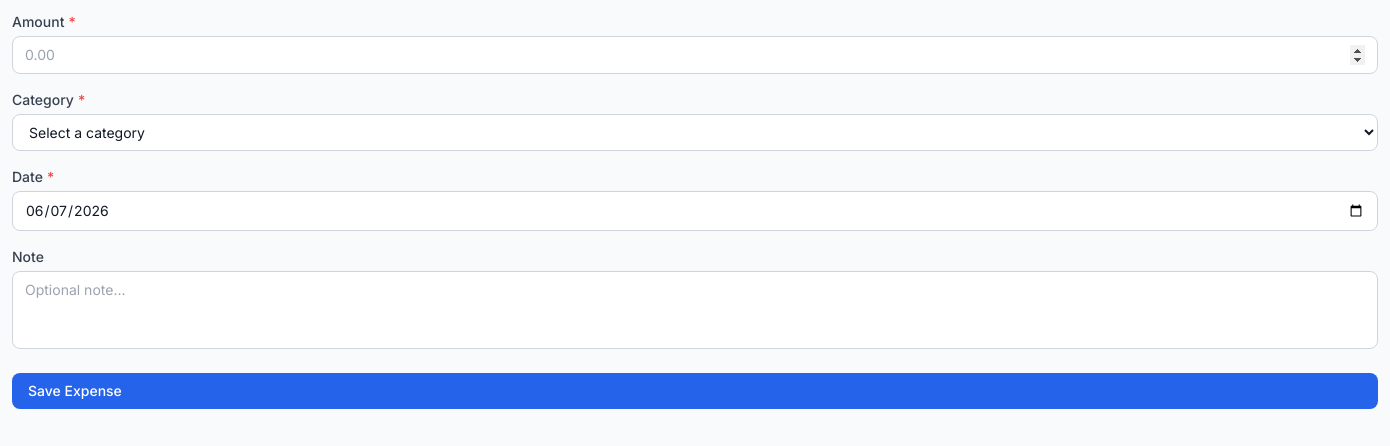
Test case: ExpenseForm › shows validation error for missing category
Type "50" into the number field labelled "Amount*" at (695, 55), box top-left (12, 36), bottom-right (1378, 74)
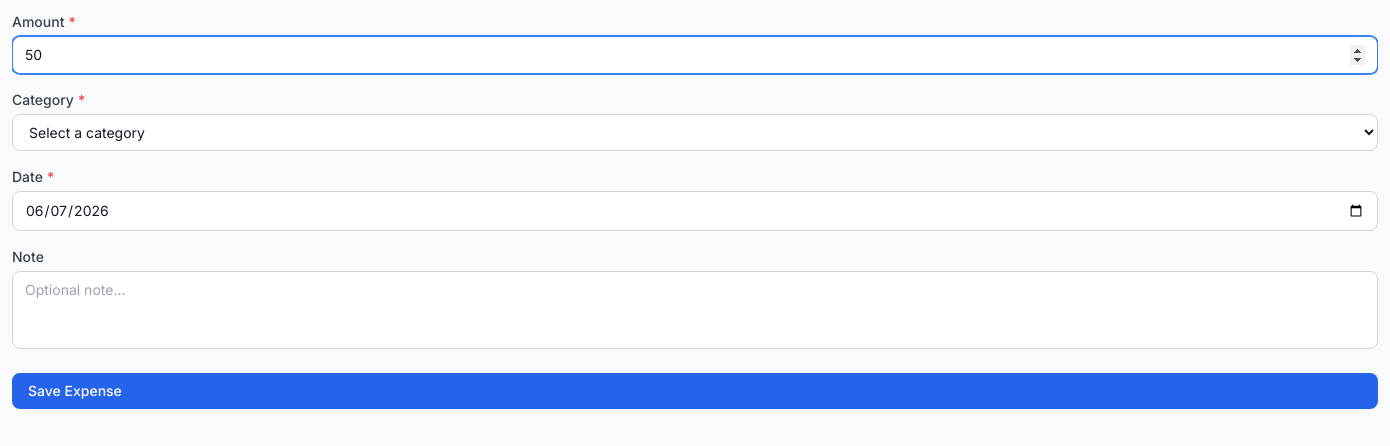
Click the button "Save Expense" at (75, 390), box top-left (12, 373), bottom-right (1378, 409)
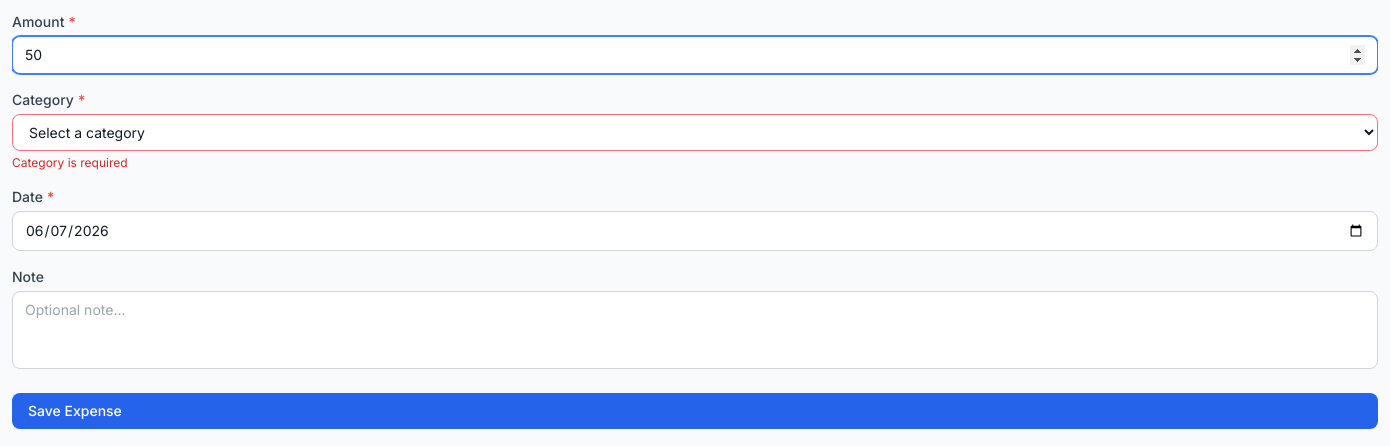
Expected: the text "Category is required" is shown, top-left (12, 155), bottom-right (128, 170)
